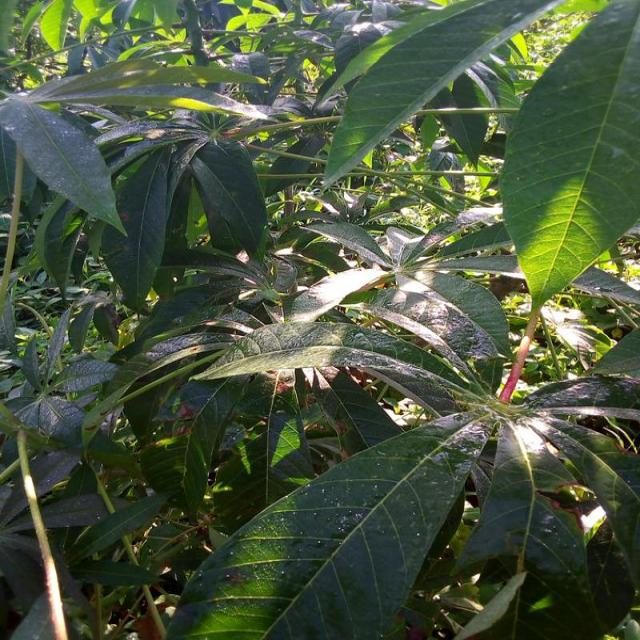cassava leaf: (164, 406, 490, 638), (319, 0, 565, 189), (496, 0, 638, 310), (0, 95, 127, 237)
